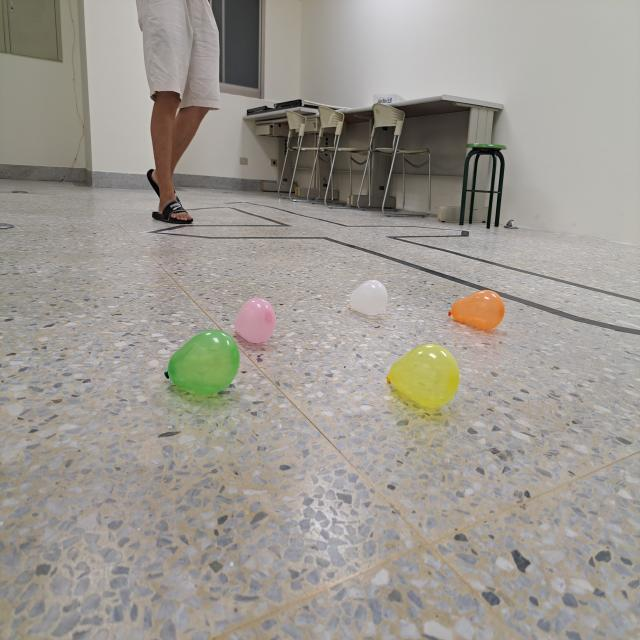other: (160, 329, 240, 397), (384, 344, 461, 408), (446, 289, 506, 331), (231, 298, 278, 344), (344, 280, 390, 316)
